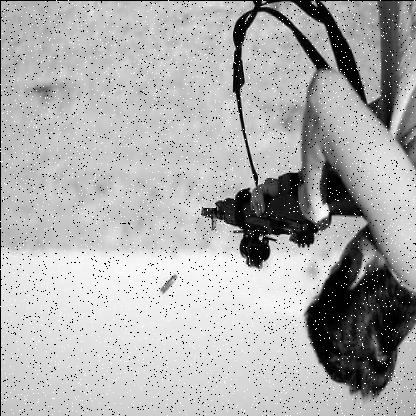rifle: (186, 67, 388, 269)
